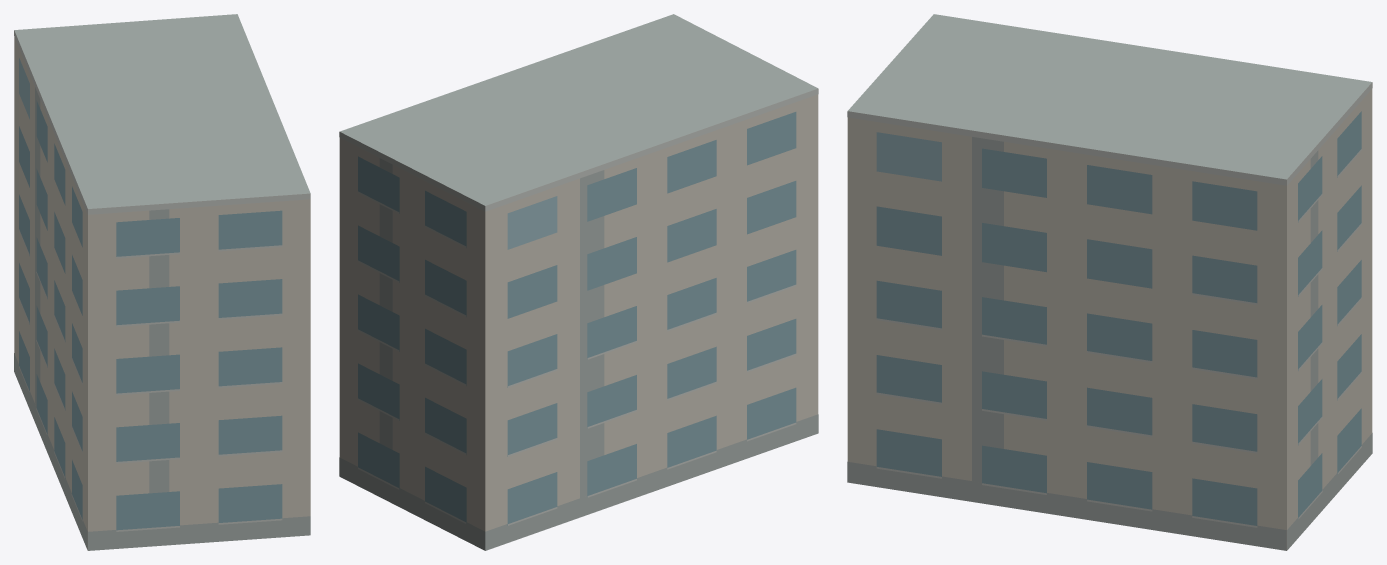
File: survey-upis-32996562.glb
3 views of the same model, side by side, from view 1: azimuth 30°, elevation 25°; view 2: azimuth 150°, elevation 25°; view 3: azimuth 270°, elevation 25° (orthographic). The views are drawn at different scales.
Visible parts, largest first — view 1: survey-upis-32996562.tmp; view 2: survey-upis-32996562.tmp; view 3: survey-upis-32996562.tmp.
Part boxes in pixels (x1=…): survey-upis-32996562.tmp: x1=14, y1=14, x2=310, y2=550; survey-upis-32996562.tmp: x1=339, y1=14, x2=818, y2=550; survey-upis-32996562.tmp: x1=847, y1=14, x2=1372, y2=550.
Bounding box in the file's own units: 13.77 × 14.4 × 18.46.
